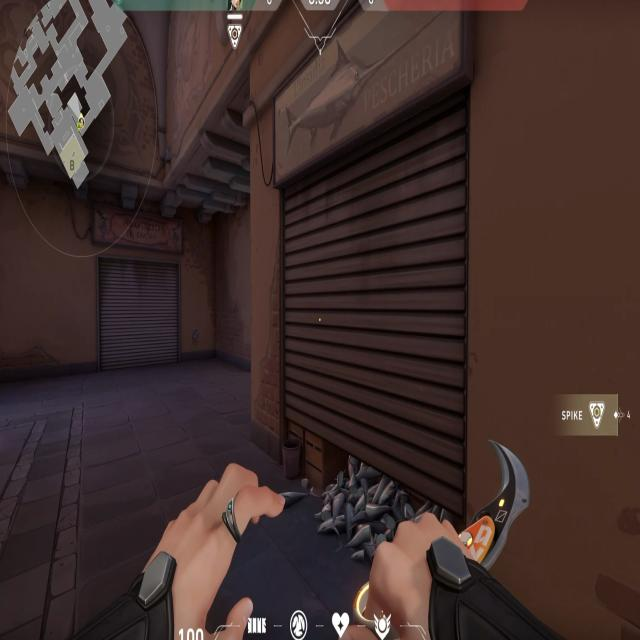B_Main_Corner: (226, 19, 470, 529)
